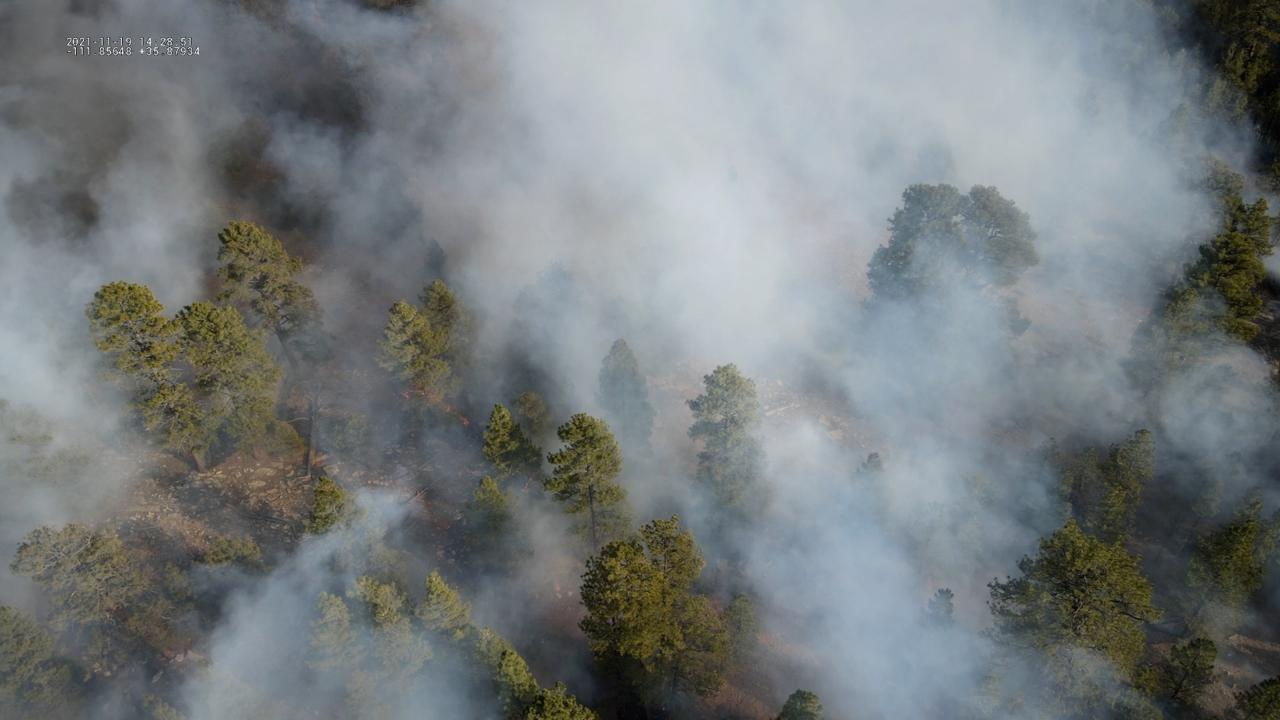fire: (397, 387, 426, 399), (458, 416, 472, 429), (441, 403, 456, 415)
smoke: (0, 0, 1280, 720)
